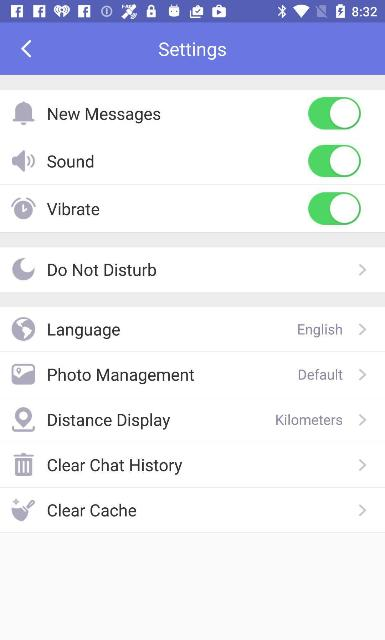Icon: (11, 497, 35, 521), (11, 317, 35, 341), (12, 197, 36, 220), (12, 407, 34, 431), (13, 101, 35, 125), (12, 258, 34, 280), (12, 150, 34, 172), (14, 452, 34, 476), (11, 364, 35, 384), (20, 40, 32, 58), (358, 504, 366, 516), (358, 458, 366, 470), (358, 414, 366, 426), (358, 368, 366, 380), (358, 323, 366, 335), (359, 263, 367, 275)
List: (0, 307, 385, 533), (0, 89, 385, 232)
Switch: (308, 97, 361, 129), (309, 145, 361, 177), (309, 193, 361, 225)
Text: (47, 368, 194, 384), (48, 412, 170, 430), (47, 458, 182, 474), (47, 108, 160, 124), (47, 262, 156, 276), (48, 503, 136, 517), (158, 42, 226, 60), (48, 323, 120, 339), (47, 202, 100, 216), (276, 414, 342, 424), (47, 154, 93, 168), (298, 324, 342, 338), (299, 368, 343, 380)
Toolbar: (0, 23, 385, 75)
UpperTaskBar: (0, 0, 385, 22)
